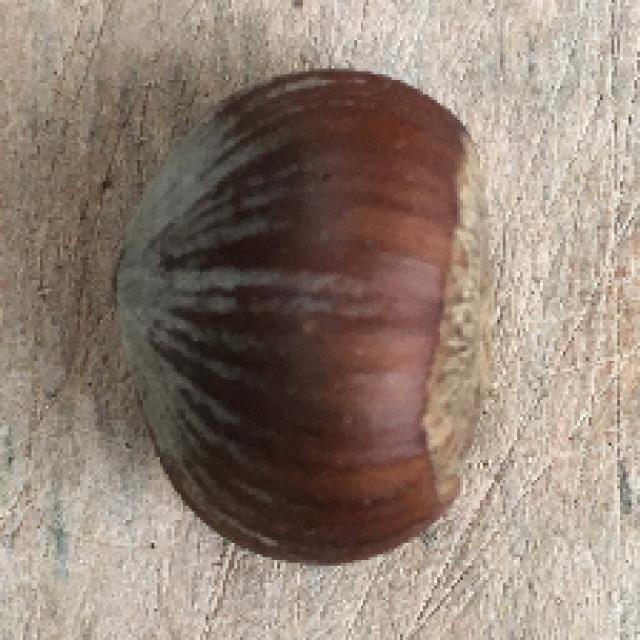damagedHazelnut: (92, 58, 510, 564)
